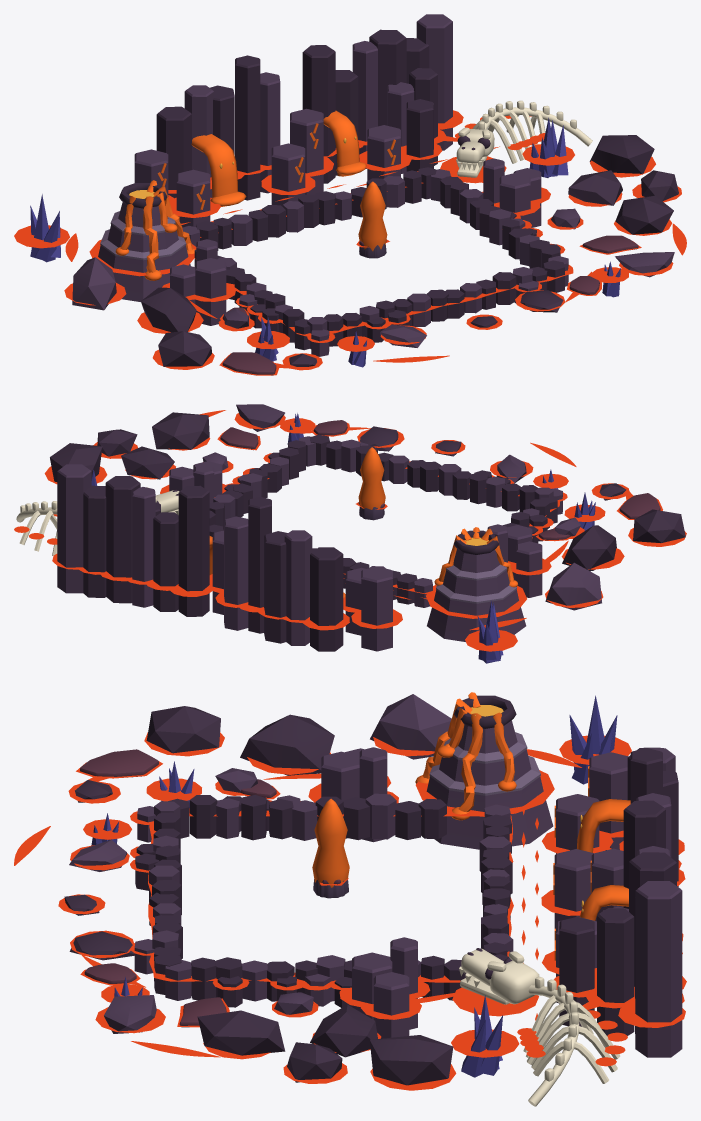
The model's file is lava.glb.
The picture shows the model from 3 angles, top to bottom: view 1: azimuth 30°, elevation 25°; view 2: azimuth 150°, elevation 25°; view 3: azimuth 270°, elevation 25°; orthographic projection. The views are drawn at different scales.
Visible parts, largest first — view 1: wall, causeway, rocks_east, foam, rocks_west, volcano_body, lavafalls, bones, streams, part_plume, swirl, skull_top (+2 smaller); view 2: wall, causeway, rocks_west, foam, rocks_east, volcano_body, part_plume, bones, streams, swirl, raft_3, raft_1 (+2 smaller); view 3: wall, causeway, rocks_east, foam, rocks_west, volcano_body, bones, streams, skull_top, lavafalls, part_plume, swirl (+3 smaller).
Boxes of the visible parts, x1,y1,x2,y2 form: wall: (134, 14, 452, 227); causeway: (182, 167, 568, 356); rocks_east: (470, 117, 678, 327); foam: (14, 110, 681, 375); rocks_west: (30, 194, 426, 367); volcano_body: (98, 183, 190, 301); lavafalls: (191, 110, 359, 206); bones: (472, 100, 592, 163); streams: (115, 180, 195, 280); part_plume: (358, 181, 387, 251); swirl: (65, 135, 686, 368); skull_top: (456, 127, 494, 170); wall: (57, 464, 392, 651); causeway: (209, 434, 562, 607); rocks_west: (477, 454, 685, 663); foam: (14, 413, 686, 651); rocks_east: (50, 404, 461, 502); volcano_body: (427, 530, 526, 641); part_plume: (358, 447, 385, 509); bones: (16, 501, 57, 555); streams: (434, 527, 517, 587); swirl: (199, 410, 633, 630); raft_3: (619, 493, 660, 518); raft_1: (220, 427, 258, 450); wall: (554, 747, 682, 1057); causeway: (134, 793, 513, 1007); rocks_east: (64, 894, 502, 1085); foam: (58, 732, 686, 1090); rocks_west: (69, 694, 617, 871); volcano_body: (426, 695, 553, 849); bones: (523, 976, 620, 1106); streams: (415, 692, 516, 820); skull_top: (459, 948, 539, 1004); lavafalls: (577, 799, 630, 920); part_plume: (312, 798, 349, 887); swirl: (14, 749, 611, 1057).
Size of the model in its own units: 33.95 by 7.43 by 26.2.
